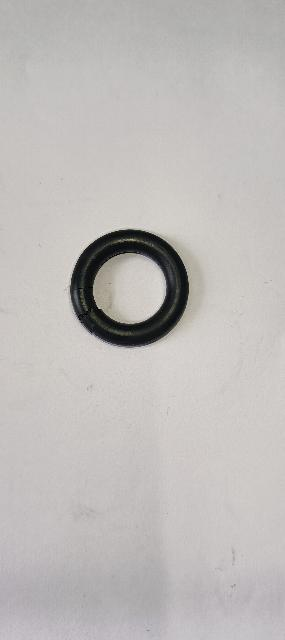crack: (74, 302, 104, 326)
scratch: (71, 282, 94, 296), (89, 323, 95, 335)
